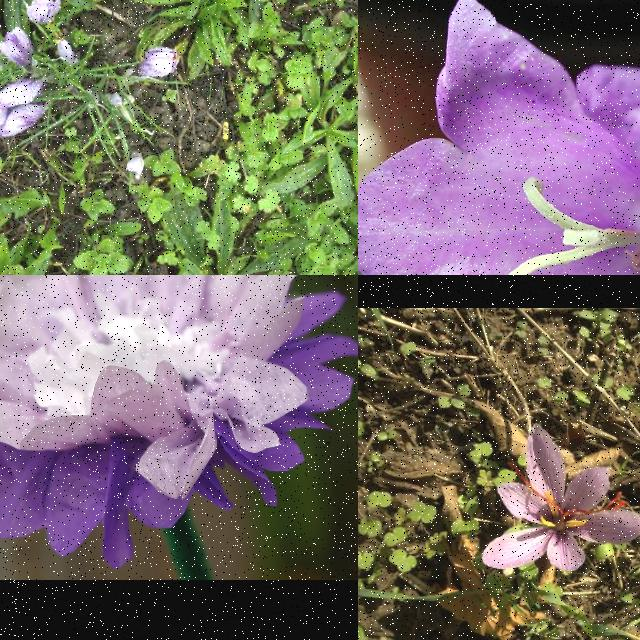flower: (483, 425, 640, 575), (0, 26, 34, 69), (136, 46, 180, 78), (27, 0, 63, 26), (57, 37, 79, 65), (126, 156, 146, 180)
overlap: (0, 77, 48, 139)
